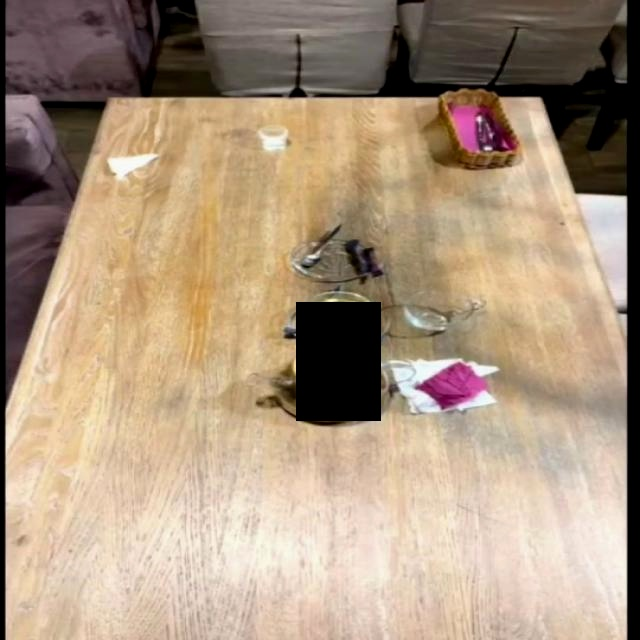tea: (268, 345, 390, 423)
